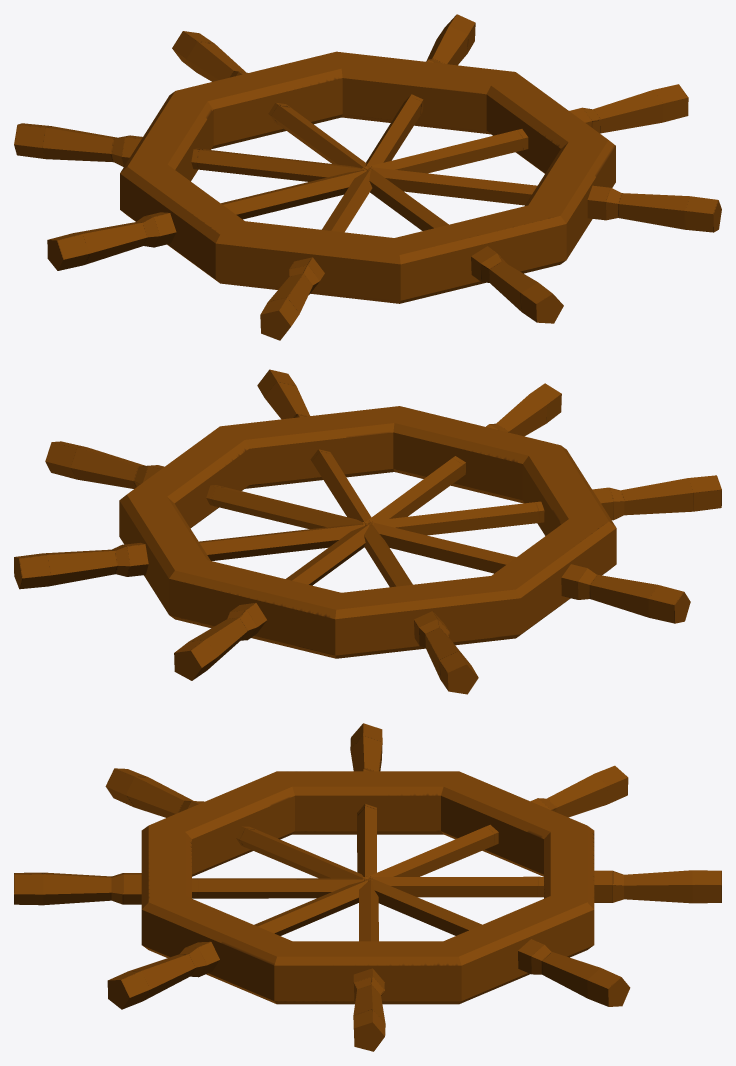
Rendered from ShipWheel.fbx.
The picture shows the model from 3 angles, top to bottom: view 1: azimuth 30°, elevation 25°; view 2: azimuth 150°, elevation 25°; view 3: azimuth 270°, elevation 25°; orthographic projection. The views are drawn at different scales.
Visible parts, largest first — view 1: Wheel; view 2: Wheel; view 3: Wheel.
Part boxes in pixels (left/top/right/bottom): Wheel: left=14, top=14, right=721, bottom=340; Wheel: left=14, top=369, right=721, bottom=694; Wheel: left=14, top=723, right=721, bottom=1051.
Size of the model in its own units: 289 by 21.55 by 289.
1 material, 1 textured.
